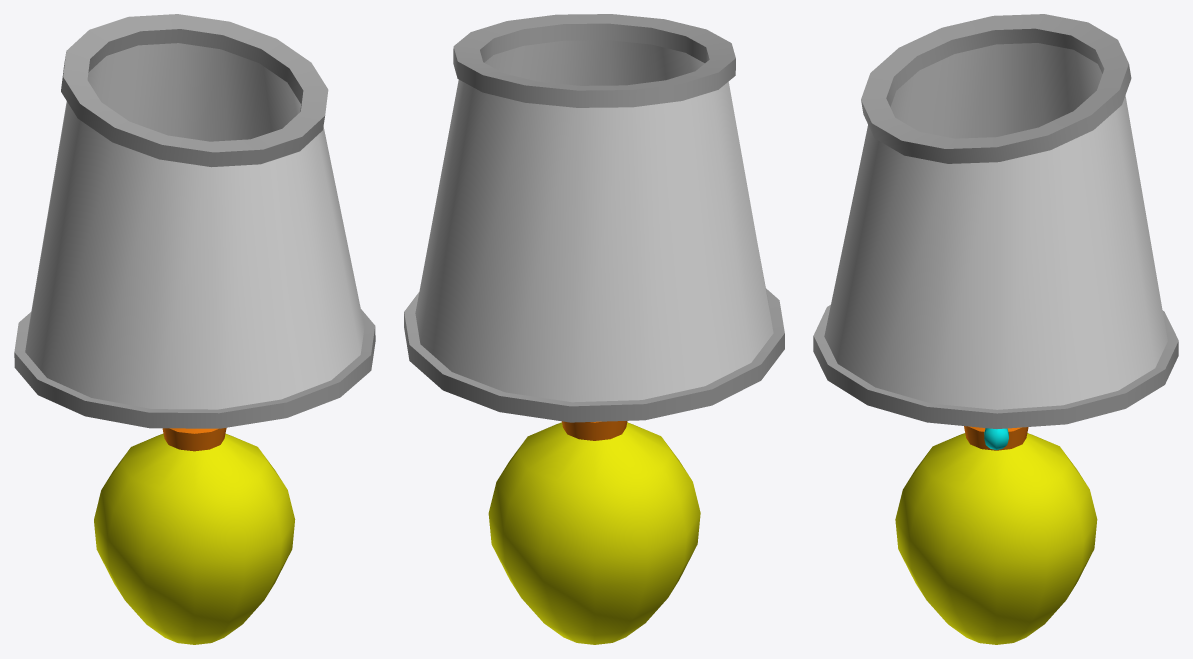
File: BedRoom_BedsideLamp.fbx
3 renders of one model, left to right at view 1: azimuth 30°, elevation 25°; view 2: azimuth 150°, elevation 25°; view 3: azimuth 270°, elevation 25°, orthographic. The views are drawn at different scales.
Visible parts, largest first — view 1: BedRoom_BedsideLamp; view 2: BedRoom_BedsideLamp; view 3: BedRoom_BedsideLamp.
Part boxes in pixels (bbox=[...]): BedRoom_BedsideLamp: bbox=[14, 14, 375, 644]; BedRoom_BedsideLamp: bbox=[404, 14, 784, 644]; BedRoom_BedsideLamp: bbox=[813, 14, 1178, 644].
Size of the model in its own units: 42.15 by 72.86 by 42.15.
